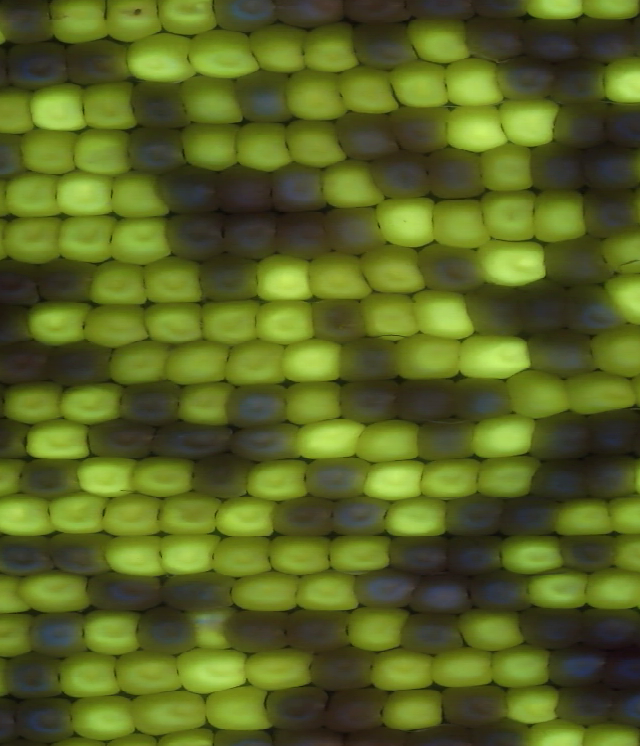fluorescent: (185, 23, 267, 85), (471, 235, 556, 291), (123, 685, 212, 738), (122, 28, 204, 85), (280, 65, 354, 128), (176, 72, 252, 133), (401, 13, 479, 72), (403, 284, 478, 345), (173, 645, 257, 699), (452, 330, 539, 382), (357, 240, 433, 299), (422, 193, 499, 251), (111, 645, 189, 701), (373, 191, 442, 254), (245, 17, 312, 81), (442, 97, 513, 157), (15, 565, 95, 618), (566, 365, 640, 422), (0, 208, 68, 270), (229, 117, 299, 177), (493, 93, 565, 151), (319, 155, 392, 212), (494, 526, 571, 580), (54, 647, 128, 703), (507, 365, 576, 425), (25, 80, 96, 138), (204, 683, 280, 737), (478, 185, 543, 248), (279, 115, 352, 171), (305, 248, 378, 304), (78, 301, 158, 352), (140, 252, 211, 309), (22, 298, 98, 351), (339, 602, 415, 655), (411, 453, 488, 505), (252, 248, 321, 306), (95, 488, 170, 541), (393, 330, 468, 383), (529, 185, 592, 248), (154, 526, 226, 581), (441, 52, 508, 111), (335, 60, 403, 118), (52, 210, 120, 268), (156, 336, 233, 387), (138, 295, 212, 348), (83, 255, 153, 311), (292, 416, 372, 465), (299, 18, 364, 78), (65, 691, 140, 743), (220, 336, 292, 390), (358, 287, 425, 345), (465, 411, 539, 463), (75, 605, 146, 659), (76, 78, 142, 136), (457, 604, 532, 655), (108, 167, 175, 224), (70, 451, 142, 504), (272, 334, 345, 386), (242, 453, 315, 505), (17, 125, 86, 180), (388, 55, 453, 113), (55, 378, 130, 428), (473, 452, 548, 502), (484, 640, 556, 692), (70, 124, 134, 182), (178, 117, 243, 174), (101, 531, 175, 581), (291, 568, 365, 618), (354, 417, 428, 467), (242, 644, 320, 691), (252, 295, 321, 348), (46, 1, 119, 51), (22, 415, 95, 465), (379, 685, 452, 735), (369, 645, 442, 695), (105, 213, 175, 265), (52, 167, 118, 222), (379, 493, 453, 542), (226, 569, 303, 616), (208, 491, 280, 541), (2, 167, 67, 222), (128, 451, 198, 502), (155, 488, 223, 540), (278, 378, 350, 427), (102, 336, 172, 386), (526, 565, 596, 615), (360, 455, 431, 504), (477, 139, 538, 196), (265, 531, 337, 579), (198, 294, 264, 346), (547, 494, 620, 541), (427, 645, 501, 691), (175, 377, 238, 431), (325, 531, 398, 577), (45, 488, 112, 538), (209, 531, 276, 581), (0, 378, 68, 427), (499, 680, 566, 728), (0, 488, 63, 539), (179, 604, 242, 654), (100, 1, 167, 46), (590, 320, 640, 379), (151, 1, 224, 41), (583, 562, 640, 613), (515, 715, 592, 746), (602, 267, 640, 329), (598, 52, 640, 107), (599, 223, 640, 279), (0, 82, 38, 138), (575, 715, 640, 746), (0, 608, 38, 661), (513, 1, 588, 25), (603, 493, 640, 538), (0, 570, 34, 618), (574, 1, 640, 25)
nonfluorescent: (536, 232, 617, 290), (522, 325, 608, 379), (413, 241, 492, 299), (280, 603, 362, 658), (319, 201, 395, 260), (45, 528, 125, 584), (60, 31, 135, 90), (256, 682, 336, 737), (328, 108, 405, 165), (560, 278, 629, 341), (522, 408, 598, 465), (126, 75, 198, 135), (347, 20, 427, 74), (459, 281, 528, 343), (418, 142, 490, 201), (81, 414, 164, 465), (228, 67, 295, 129), (272, 206, 340, 267), (47, 336, 121, 392), (145, 418, 239, 462), (218, 606, 299, 657), (267, 158, 335, 218), (435, 680, 515, 731), (524, 138, 592, 198), (131, 603, 201, 661), (154, 566, 240, 613), (226, 417, 310, 465), (449, 370, 521, 426), (299, 450, 375, 503), (160, 205, 228, 264), (349, 563, 426, 615), (220, 207, 289, 265), (196, 248, 265, 306), (576, 183, 640, 245), (188, 449, 260, 504), (386, 100, 458, 155), (438, 489, 510, 544), (305, 645, 384, 695), (80, 569, 169, 613), (516, 601, 591, 653), (9, 692, 81, 746), (8, 452, 89, 500), (368, 146, 435, 204), (305, 291, 373, 348), (539, 55, 612, 108), (335, 331, 406, 385), (212, 160, 279, 217), (333, 375, 405, 428), (397, 608, 473, 658), (519, 13, 589, 67), (267, 491, 341, 542), (155, 165, 226, 218), (542, 638, 613, 691), (2, 648, 71, 702), (491, 51, 560, 105), (464, 565, 537, 616), (2, 40, 72, 93), (33, 254, 103, 307), (124, 121, 189, 178), (574, 11, 640, 67), (392, 373, 463, 425), (514, 275, 572, 338), (115, 376, 188, 426), (549, 679, 622, 729), (551, 95, 615, 152), (460, 13, 530, 65), (497, 489, 565, 542), (575, 140, 640, 195), (25, 608, 92, 661), (222, 379, 293, 429), (385, 531, 454, 582), (405, 571, 478, 619), (0, 529, 64, 583), (320, 686, 392, 733), (525, 454, 591, 505), (440, 531, 510, 578), (582, 448, 640, 504), (578, 600, 640, 652), (412, 414, 482, 460), (0, 1, 63, 51), (558, 530, 623, 578), (0, 335, 58, 388), (332, 491, 395, 538), (204, 1, 286, 36), (585, 408, 640, 458), (0, 256, 48, 313), (269, 1, 350, 31), (336, 1, 415, 28), (598, 645, 640, 693), (603, 95, 640, 149), (0, 300, 39, 350), (0, 413, 37, 465), (401, 1, 481, 25), (0, 129, 32, 183), (608, 678, 640, 727)
